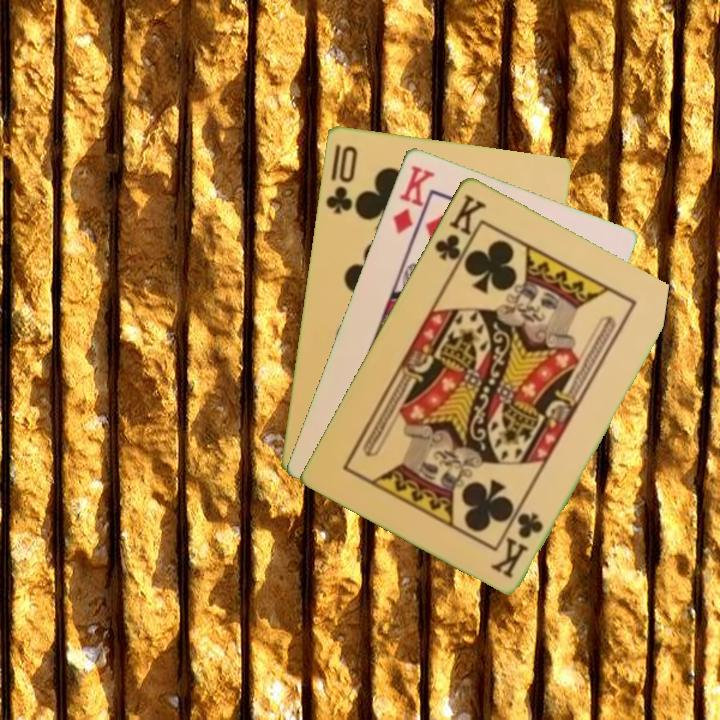10c: (322, 142, 360, 217)
Kc: (430, 190, 490, 272), (488, 507, 547, 581)
Kd: (388, 161, 437, 245)
